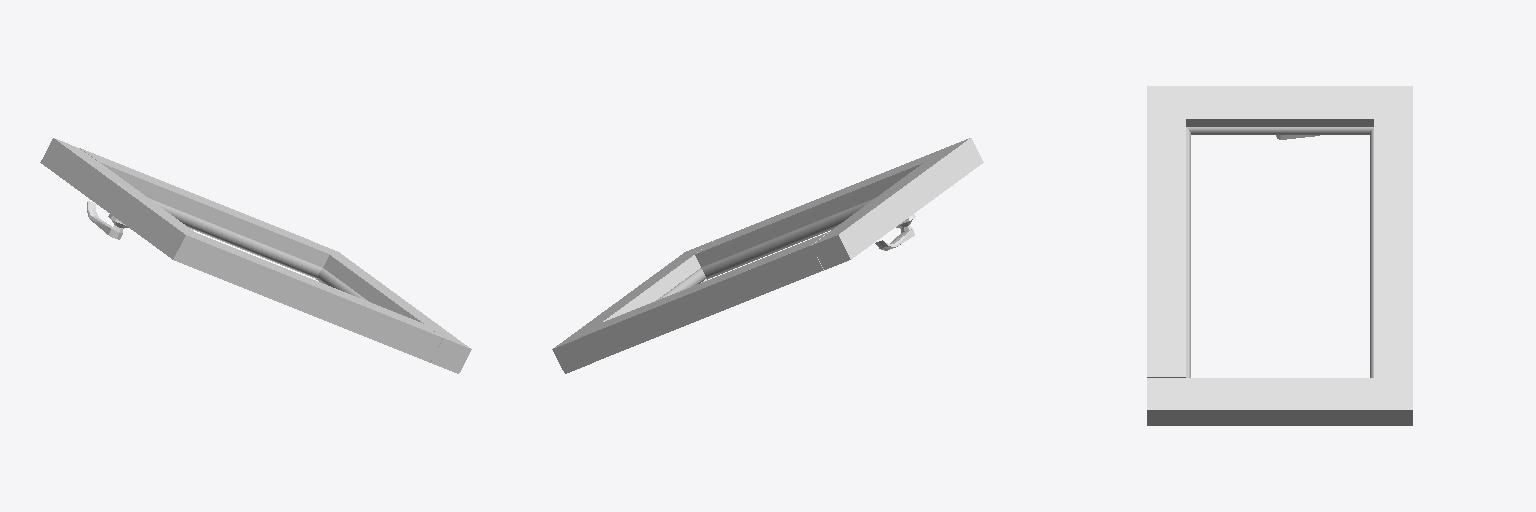
3 renders of one model, left to right at view 1: azimuth 30°, elevation 25°; view 2: azimuth 150°, elevation 25°; view 3: azimuth 270°, elevation 25°, orthographic.
Parts seen in each view (by area): view 1: Object.10, Object.9, Object.1, Object.8, Object.2; view 2: Object.1, Object.9, Object.10, Object.8, Object.5; view 3: Object.8, Object.9, Object.1, Object.10, Object.7, Object.5, Object.2.
Boxes of the visible parts, x1,y1,x2,y2 form: Object.10: [197, 233, 442, 362]; Object.9: [40, 138, 213, 270]; Object.1: [80, 148, 329, 278]; Object.8: [312, 241, 471, 373]; Object.2: [149, 198, 321, 277]; Object.1: [581, 232, 828, 362]; Object.9: [811, 138, 983, 269]; Object.10: [695, 149, 941, 279]; Object.8: [552, 241, 712, 373]; Object.5: [701, 198, 874, 278]; Object.8: [1147, 378, 1412, 425]; Object.9: [1147, 86, 1412, 126]; Object.1: [1374, 117, 1412, 377]; Object.10: [1147, 119, 1185, 377]; Object.7: [1187, 127, 1373, 134]; Object.5: [1186, 127, 1190, 377]; Object.2: [1370, 128, 1373, 377].
Bounding box in the file's own units: 304 × 200 × 234.
Materials: 9 (1 with a texture image).